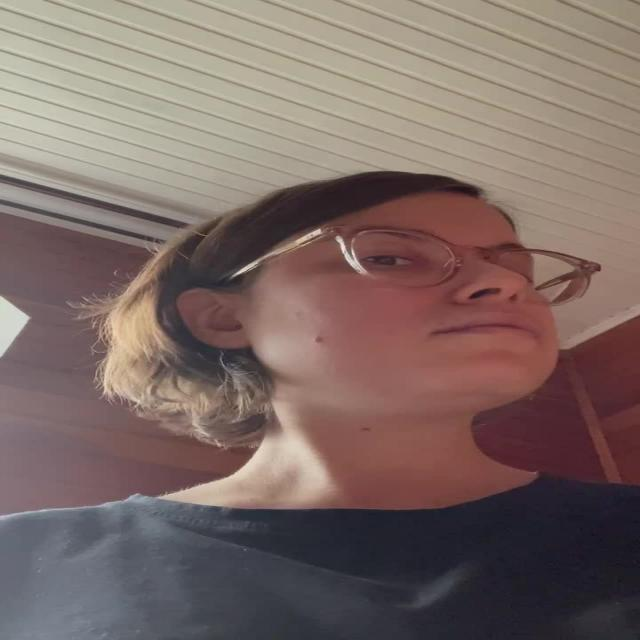earlobe: (174, 288, 251, 350)
